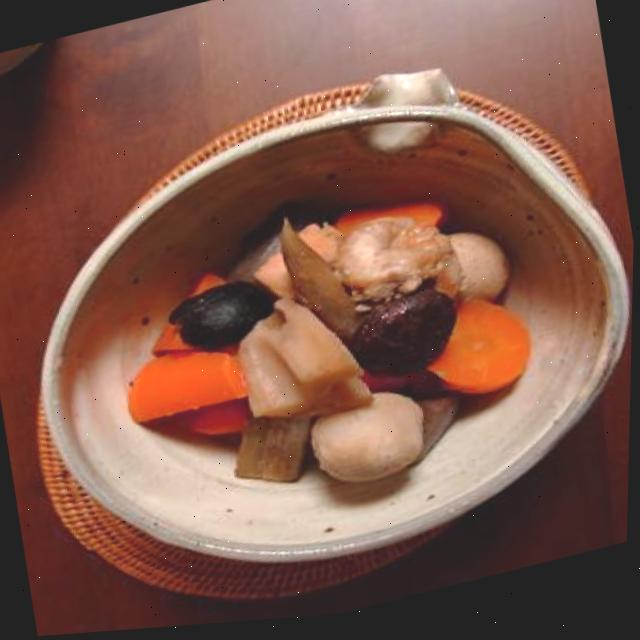鸡肉料理 含炸鸡: (0, 31, 639, 637)
